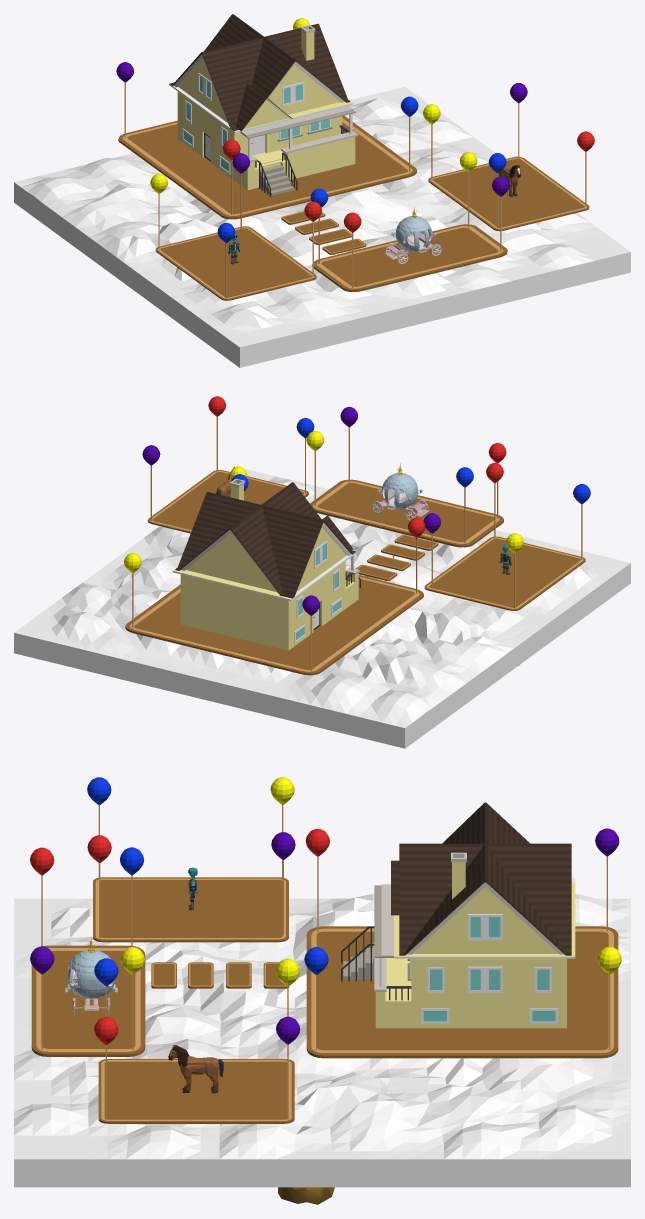
3 views of the same model, one above another, from view 1: azimuth 30°, elevation 25°; view 2: azimuth 150°, elevation 25°; view 3: azimuth 270°, elevation 25° (orthographic). The views are drawn at different scales.
Visible parts, largest first — view 1: Cube.013, Cube.1555, VEHICLES_FANTASY_CARRIAGE; view 2: Cube.013, Cube.1555, VEHICLES_FANTASY_CARRIAGE; view 3: Cube.013, Cube.1555, VEHICLES_FANTASY_CARRIAGE, ANIMAL_CABALLO, UNDERGROUND_T_REX_BONES.
Part boxes in pixels (box(x1,y1,x2,y2)): Cube.013: box(14, 18, 630, 367); Cube.1555: box(169, 14, 358, 196); VEHICLES_FANTASY_CARRIAGE: box(385, 207, 441, 264); Cube.013: box(14, 396, 630, 748); Cube.1555: box(172, 478, 360, 650); VEHICLES_FANTASY_CARRIAGE: box(372, 463, 428, 520); Cube.013: box(14, 777, 630, 1187); Cube.1555: box(341, 802, 575, 1028); VEHICLES_FANTASY_CARRIAGE: box(65, 937, 117, 1015); ANIMAL_CABALLO: box(168, 1045, 223, 1093); UNDERGROUND_T_REX_BONES: box(278, 1187, 334, 1204).
Size of the model in its own units: 4000 by 1799 by 4000.
Materials: 36 (1 with a texture image).
